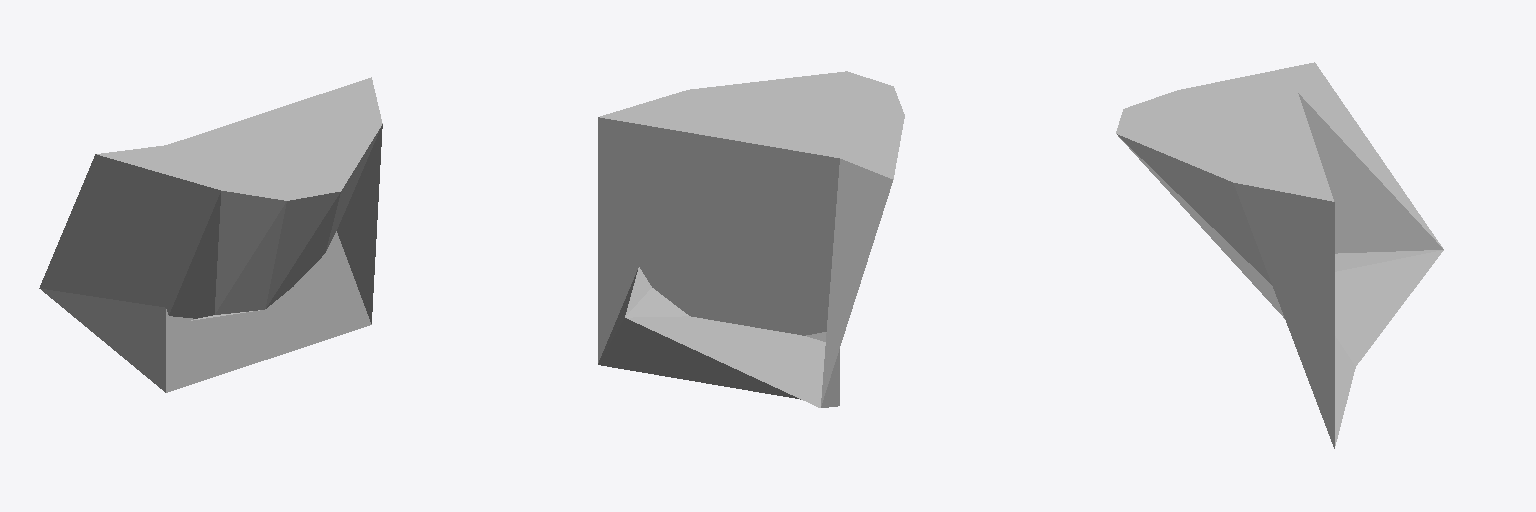
File: Platform up left.obj
The picture shows the model from 3 angles: view 1: azimuth 30°, elevation 25°; view 2: azimuth 150°, elevation 25°; view 3: azimuth 270°, elevation 25°; orthographic projection.
Parts seen in each view (by area): view 1: Platform up left; view 2: Platform up left; view 3: Platform up left.
Part boxes in pixels (x1,y1,x2,y2): Platform up left: (39,77,382,392); Platform up left: (598,71,904,407); Platform up left: (1116,62,1443,448).
Size of the model in its own units: 68.2 by 56.43 by 67.77.